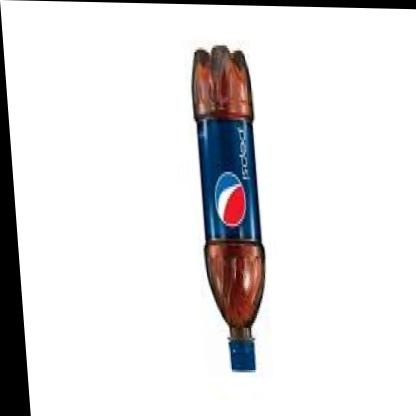trash: (192, 46, 264, 370)
